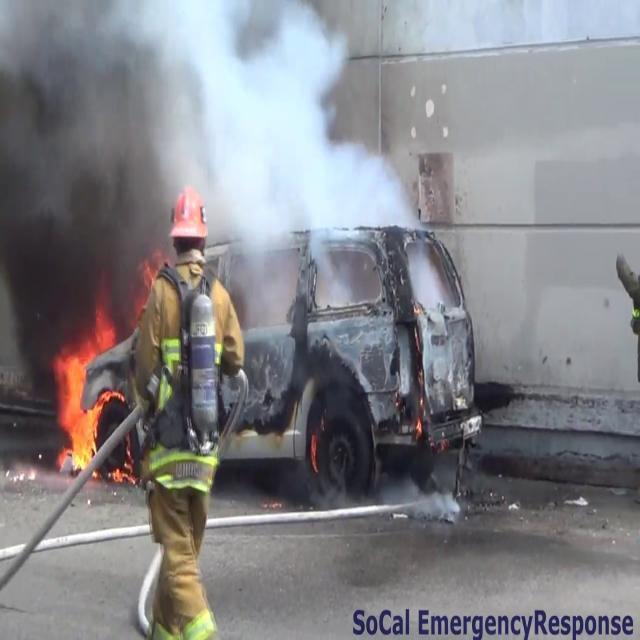Fire: (49, 341, 111, 474)
Smoke: (0, 0, 381, 313)
